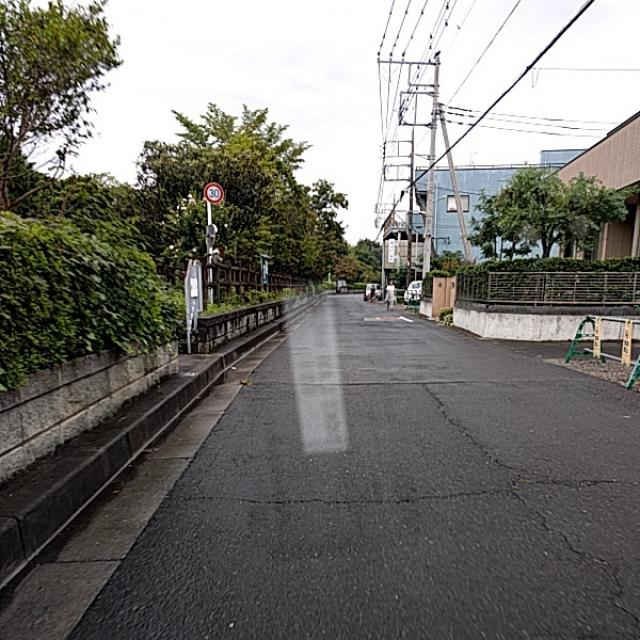pothole: (398, 368, 555, 486)
